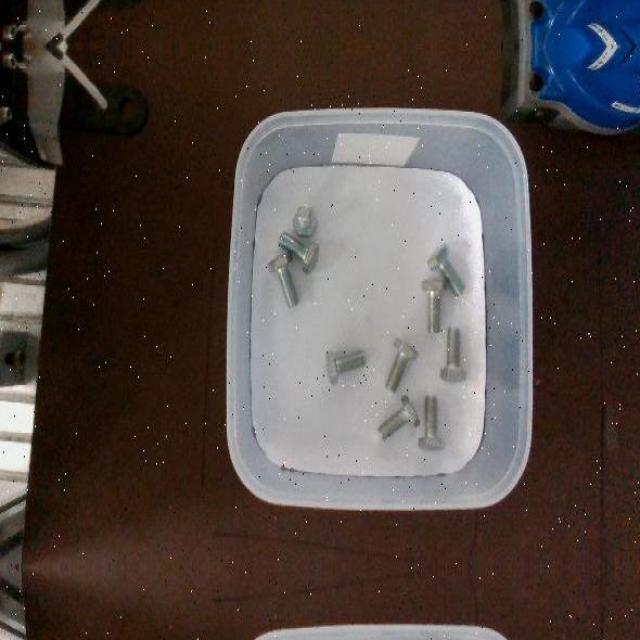screw: (426, 242, 466, 298), (377, 394, 420, 440), (385, 336, 419, 391), (267, 251, 299, 307), (278, 231, 320, 273), (439, 326, 466, 383), (326, 348, 366, 385), (418, 395, 444, 451), (420, 278, 446, 331), (293, 204, 317, 236)
